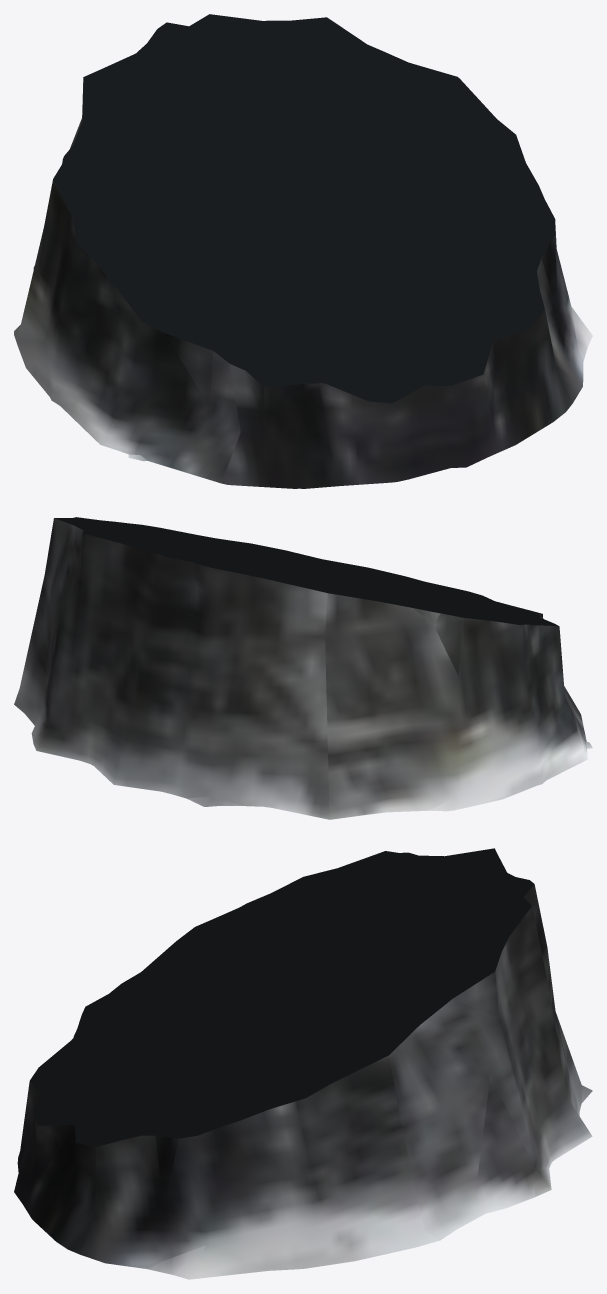
File: neck.obj
3 views of the same model, one above another, from view 1: azimuth 30°, elevation 25°; view 2: azimuth 150°, elevation 25°; view 3: azimuth 270°, elevation 25° (orthographic). The views are drawn at different scales.
Parts seen in each view (by area): view 1: neck; view 2: neck; view 3: neck.
Part boxes in pixels (left/top/right/bottom): neck: left=14, top=14, right=592, bottom=488; neck: left=14, top=517, right=592, bottom=819; neck: left=14, top=848, right=592, bottom=1279.
Size of the model in its own units: 0.1603 by 0.0857 by 0.1587.
2 materials, 1 textured.
